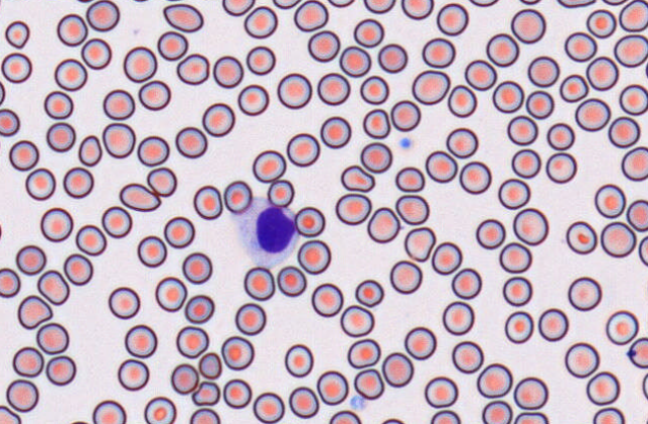MONO: (233, 195, 302, 270)
PLT: (400, 136, 414, 149)
RBC: (512, 207, 548, 245), (411, 69, 450, 104), (600, 221, 636, 257), (277, 72, 312, 109), (476, 363, 512, 398), (564, 342, 599, 378), (17, 294, 52, 329), (510, 8, 545, 43), (574, 97, 610, 131), (123, 46, 157, 82), (367, 206, 400, 243), (297, 239, 331, 274), (605, 310, 639, 345), (567, 276, 601, 311), (119, 182, 160, 211), (162, 3, 203, 32), (154, 276, 187, 312), (102, 122, 135, 158), (5, 378, 39, 412), (586, 371, 620, 405), (286, 132, 320, 166), (389, 259, 422, 294), (585, 55, 618, 90), (513, 376, 548, 409), (40, 207, 73, 242), (221, 335, 254, 370), (381, 351, 413, 387), (37, 269, 69, 305), (335, 193, 371, 225), (175, 325, 209, 358), (243, 5, 277, 38), (613, 34, 647, 67), (486, 32, 519, 66), (340, 304, 374, 337), (252, 149, 286, 182), (124, 324, 157, 358), (202, 102, 235, 136), (316, 72, 350, 105), (403, 226, 435, 261), (311, 282, 343, 317), (316, 370, 348, 405), (442, 300, 474, 335), (54, 58, 87, 91), (459, 160, 491, 194), (424, 376, 458, 408), (404, 326, 436, 360), (243, 266, 275, 300), (565, 220, 597, 254), (293, 0, 328, 31), (594, 183, 625, 218), (102, 88, 135, 120), (492, 80, 524, 113), (436, 2, 468, 35), (36, 322, 69, 354), (307, 30, 340, 62), (117, 358, 149, 391), (425, 150, 457, 183), (108, 286, 140, 319), (451, 340, 483, 373), (234, 302, 266, 335), (176, 53, 209, 85), (499, 241, 532, 273), (537, 307, 568, 341), (85, 0, 119, 31), (431, 241, 462, 275), (395, 194, 429, 225), (163, 216, 195, 248), (175, 126, 207, 158), (527, 55, 559, 87), (608, 116, 640, 148), (62, 166, 94, 198), (360, 141, 392, 173), (339, 45, 371, 77), (252, 391, 284, 423), (56, 13, 87, 46), (101, 205, 132, 238), (564, 31, 597, 62), (212, 55, 243, 88), (181, 251, 212, 284), (421, 37, 455, 67), (545, 152, 577, 183), (446, 127, 478, 158), (75, 224, 106, 256), (8, 139, 39, 171), (237, 84, 269, 115), (464, 59, 496, 90), (12, 346, 44, 377), (498, 178, 530, 209), (0, 52, 32, 83), (137, 135, 169, 166), (80, 37, 111, 69), (138, 79, 170, 110), (320, 116, 351, 148), (288, 386, 319, 418), (347, 338, 380, 368), (25, 167, 55, 200), (193, 185, 222, 219), (284, 343, 313, 377), (146, 166, 177, 197), (353, 368, 384, 399), (15, 244, 46, 275), (294, 206, 325, 237), (63, 253, 93, 285), (137, 235, 167, 267), (451, 267, 481, 299), (390, 99, 420, 131), (447, 84, 476, 117), (223, 180, 252, 213), (504, 310, 533, 343), (340, 164, 374, 192), (45, 355, 76, 385), (157, 30, 188, 60), (506, 115, 537, 145), (276, 265, 306, 296), (475, 218, 505, 249), (618, 0, 647, 32), (621, 146, 647, 181), (511, 148, 541, 178), (502, 276, 532, 306), (377, 43, 407, 73), (245, 45, 275, 75), (170, 363, 199, 394), (353, 18, 384, 47), (46, 121, 75, 152), (619, 83, 647, 115), (143, 396, 176, 423), (586, 9, 616, 38), (43, 90, 73, 119), (359, 75, 389, 104), (222, 378, 251, 408), (184, 294, 214, 323), (559, 73, 588, 102), (525, 90, 554, 119), (362, 108, 390, 138), (92, 399, 126, 423), (354, 279, 383, 307), (77, 134, 102, 166), (546, 122, 574, 150), (395, 166, 425, 192), (267, 179, 294, 207), (191, 380, 220, 406), (481, 400, 512, 423), (4, 20, 29, 48), (198, 351, 222, 379), (626, 199, 647, 231), (627, 337, 647, 368), (401, 0, 433, 19), (0, 267, 20, 297), (0, 108, 20, 136), (221, 0, 254, 16), (592, 407, 624, 423), (189, 407, 220, 423), (328, 409, 361, 423), (513, 411, 548, 423), (430, 409, 460, 423), (363, 0, 395, 13), (0, 405, 21, 423), (556, 0, 596, 8), (638, 235, 648, 266), (272, 0, 301, 9), (468, 0, 498, 7), (327, 0, 354, 7), (642, 372, 648, 400), (380, 417, 405, 423), (601, 0, 627, 5), (0, 80, 5, 105), (519, 0, 541, 5), (644, 277, 648, 302), (68, 420, 90, 424), (0, 219, 3, 243), (645, 60, 648, 79), (75, 0, 94, 3), (129, 0, 151, 2)
